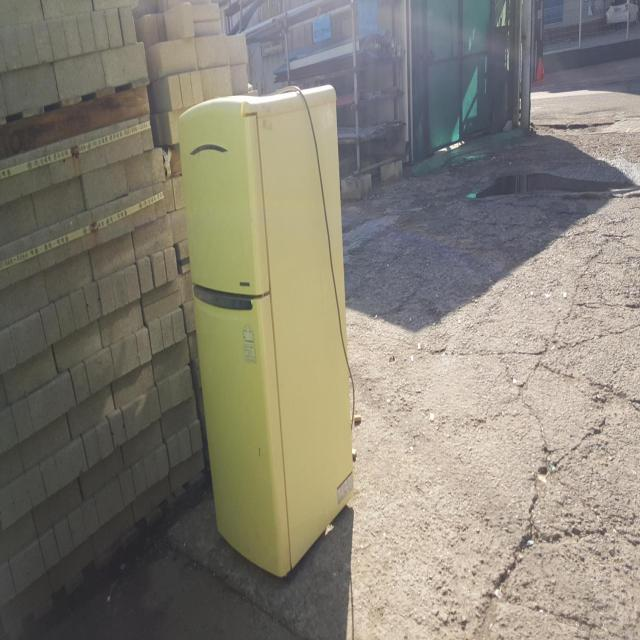refrigerator: (177, 80, 356, 578)
